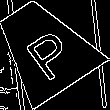P_NW: (13, 17, 75, 79)
